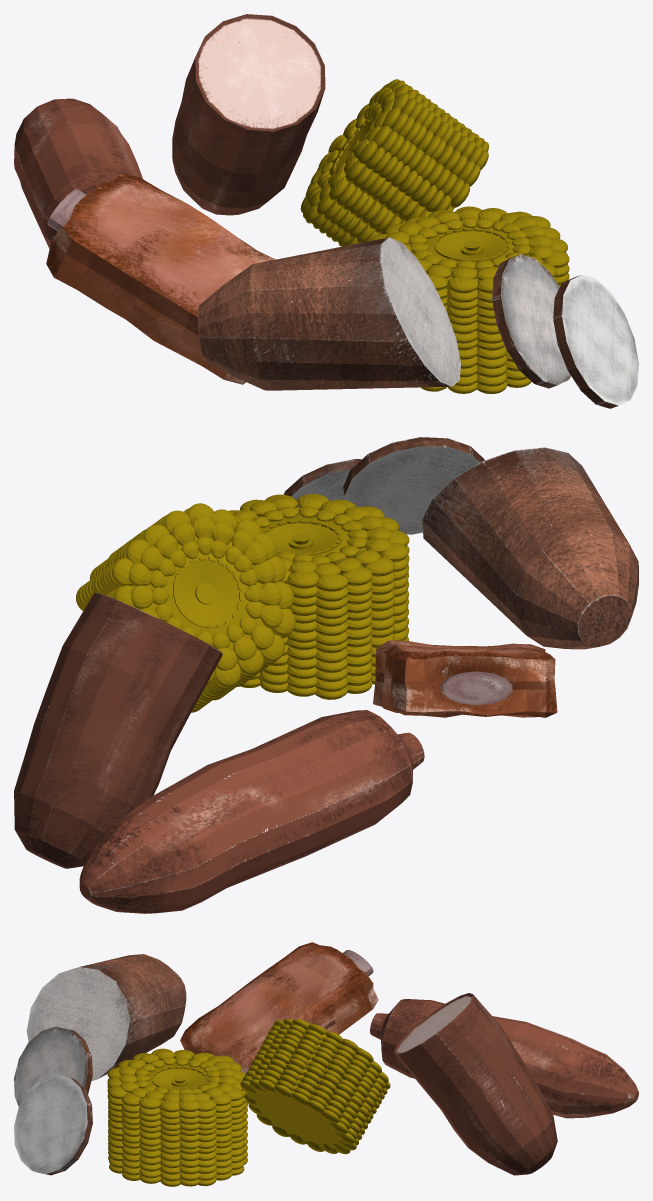
Rendered from sancocho.glb.
3 views of the same model, one above another, from view 1: azimuth 30°, elevation 25°; view 2: azimuth 150°, elevation 25°; view 3: azimuth 270°, elevation 25° (orthographic). The views are drawn at different scales.
Visible parts, largest first — view 1: ñame partido, Yuca_para_texturizar_, costillla_para_texturizar_, mazorca 2, mazorca 1; view 2: Yuca_para_texturizar_, ñame partido, mazorca 1, mazorca 2, costillla_para_texturizar_; view 3: Yuca_para_texturizar_, ñame partido, mazorca 1, mazorca 2, costillla_para_texturizar_.
Boxes of the visible parts, box(x1,y1,x2,y2) form: ñame partido: box(198, 237, 638, 408); Yuca_para_texturizar_: box(14, 14, 325, 248); costillla_para_texturizar_: box(46, 173, 275, 384); mazorca 2: box(300, 79, 488, 246); mazorca 1: box(370, 206, 569, 393); Yuca_para_texturizar_: box(14, 592, 424, 913); ñame partido: box(284, 437, 638, 649); mazorca 1: box(229, 493, 409, 699); mazorca 2: box(76, 503, 295, 712); costillla_para_texturizar_: box(373, 640, 557, 717); Yuca_para_texturizar_: box(370, 993, 638, 1175); ñame partido: box(14, 954, 186, 1175); mazorca 1: box(107, 1048, 247, 1186); mazorca 2: box(240, 1018, 390, 1154); costillla_para_texturizar_: box(180, 942, 378, 1074).
Bounding box in the file's own units: 6.14 × 3.05 × 10.39.
Materials: 4 (3 with a texture image).
